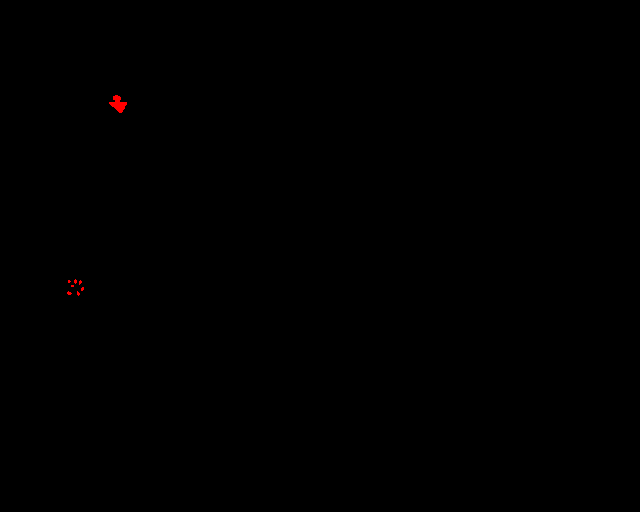Target: (109, 95, 127, 113), (67, 291, 72, 295), (74, 279, 77, 284), (79, 280, 82, 285), (77, 291, 80, 296), (81, 287, 84, 291), (68, 280, 71, 283), (71, 285, 74, 287)
